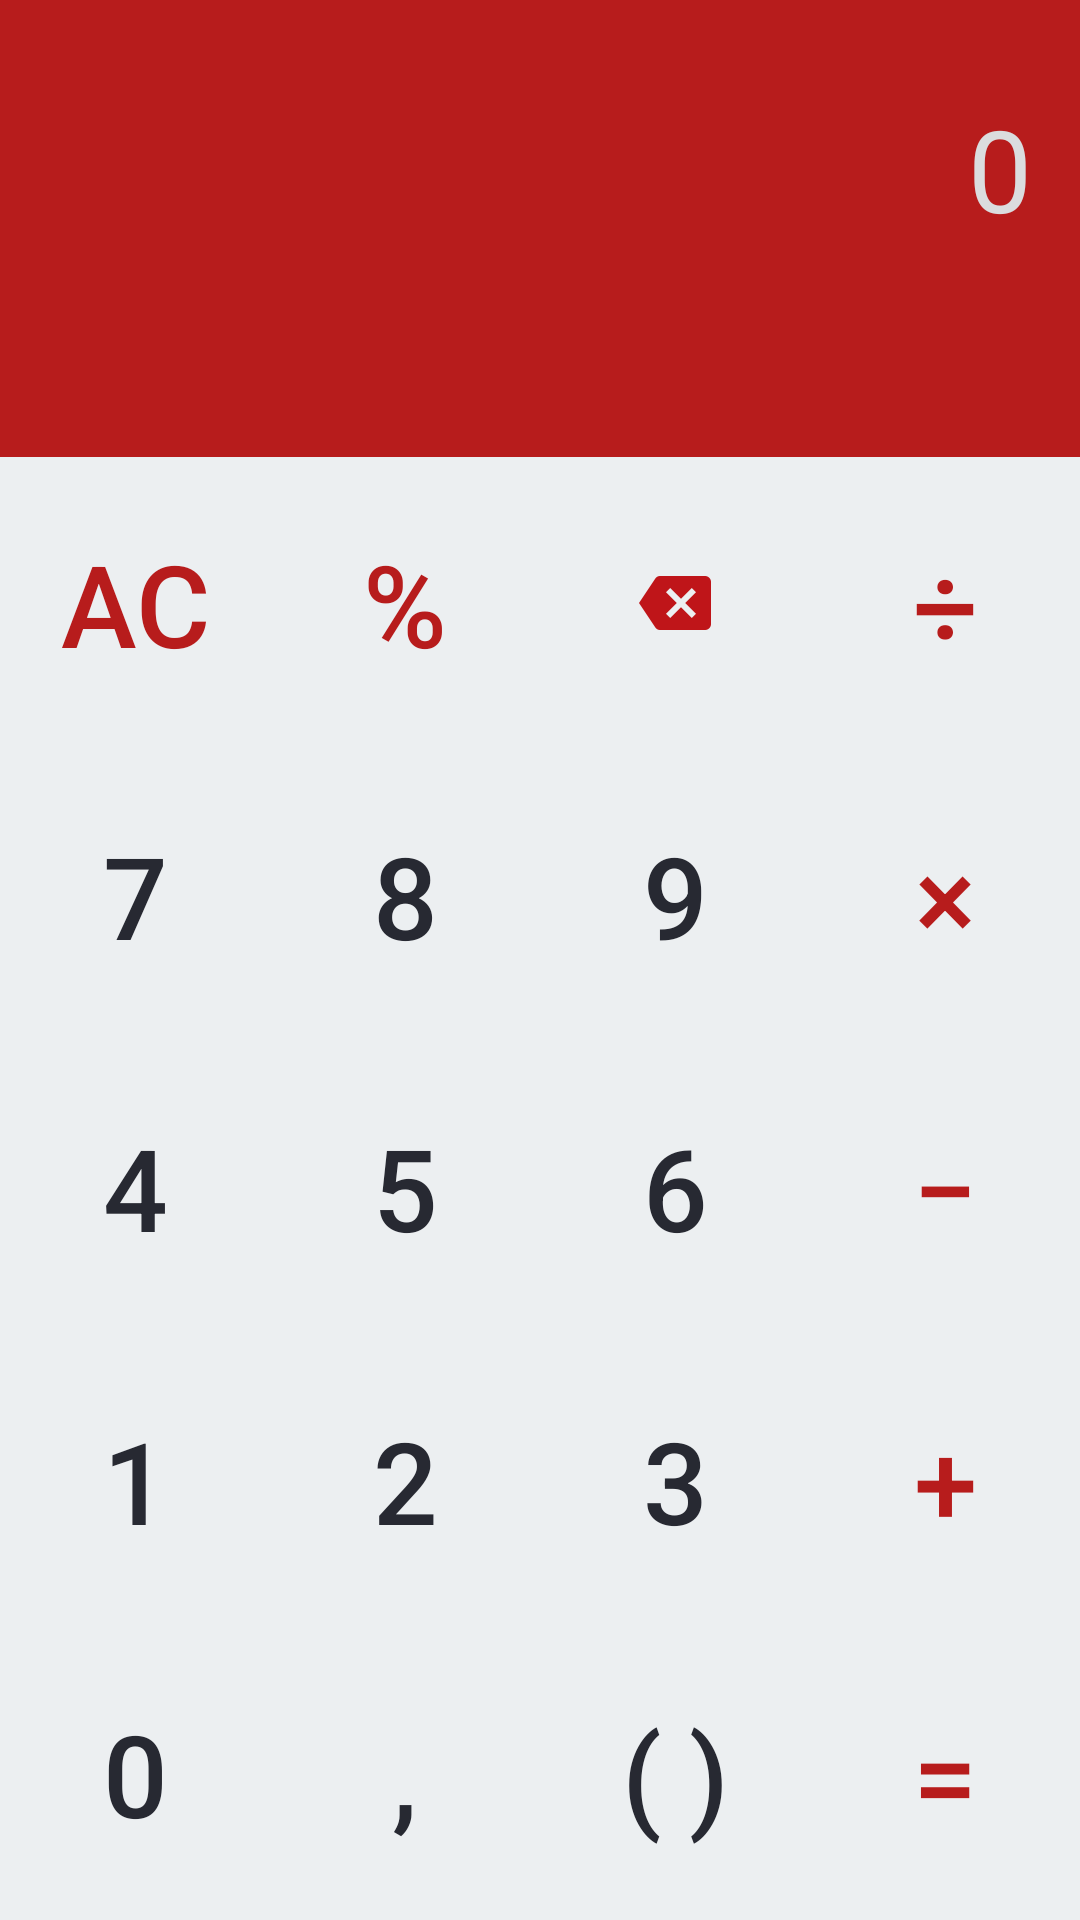

Icons on this 1080*1920 Android screen, each with the point to tap as point (x, y):
backspace: point (675, 603)
